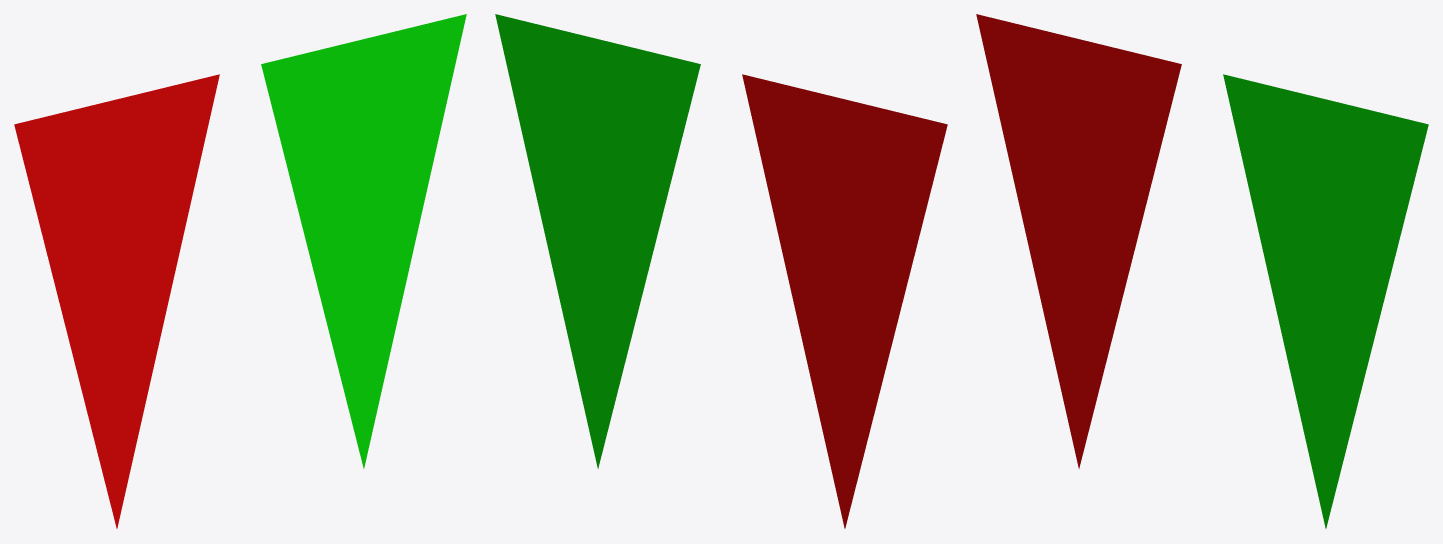
File: different_material_same_morph.dae
3 views of the same model, side by side, from view 1: azimuth 30°, elevation 25°; view 2: azimuth 150°, elevation 25°; view 3: azimuth 330°, elevation 25° (orthographic).
Visible parts, largest first — view 1: cube_node1, cube_node2; view 2: cube_node1, cube_node2; view 3: cube_node2, cube_node1.
Boxes of the visible parts, x1,y1,x2,y2 form: cube_node1: [14, 74, 219, 528]; cube_node2: [261, 14, 466, 468]; cube_node1: [742, 74, 947, 528]; cube_node2: [495, 14, 700, 468]; cube_node2: [1223, 74, 1428, 528]; cube_node1: [976, 14, 1181, 468].
Bounding box in the file's own units: 220 × 200 × 0.
